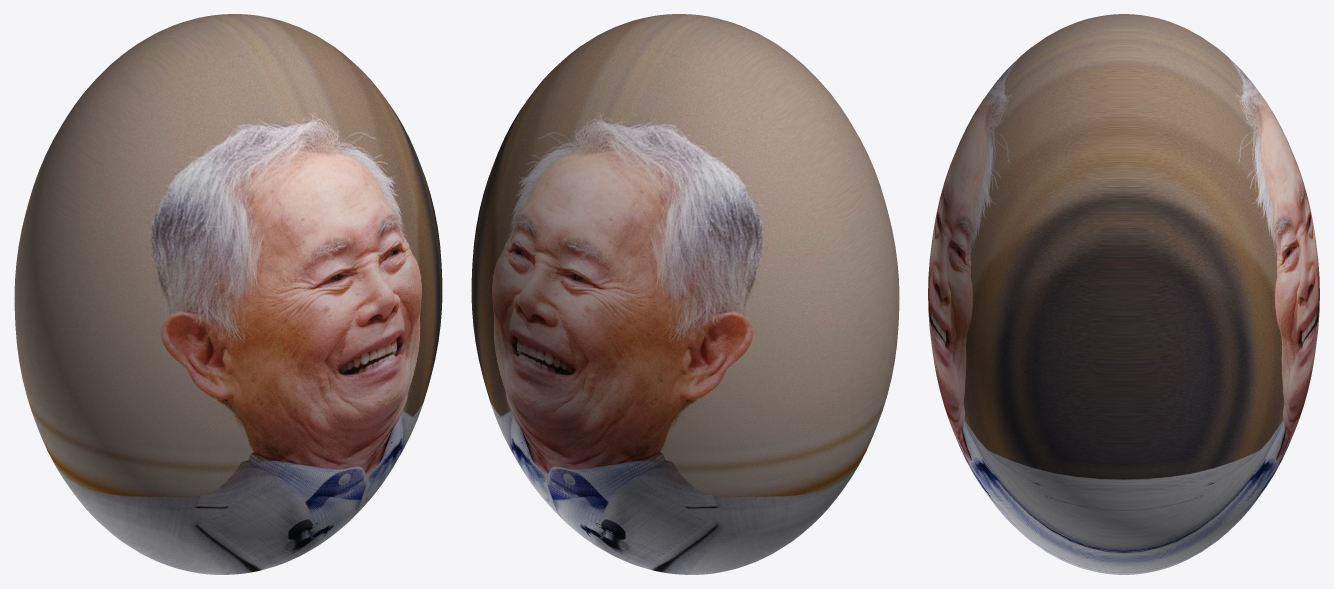
3 renders of one model, left to right at view 1: azimuth 30°, elevation 25°; view 2: azimuth 150°, elevation 25°; view 3: azimuth 270°, elevation 25°, orthographic.
Parts seen in each view (by area): view 1: head; view 2: head; view 3: head.
Boxes of the visible parts, x1,y1,x2,y2 form: head: [14, 14, 442, 574]; head: [471, 14, 899, 574]; head: [928, 14, 1319, 574].
Bounding box in the file's own units: 1.49 × 2 × 1.34.
1 material, 1 textured.
